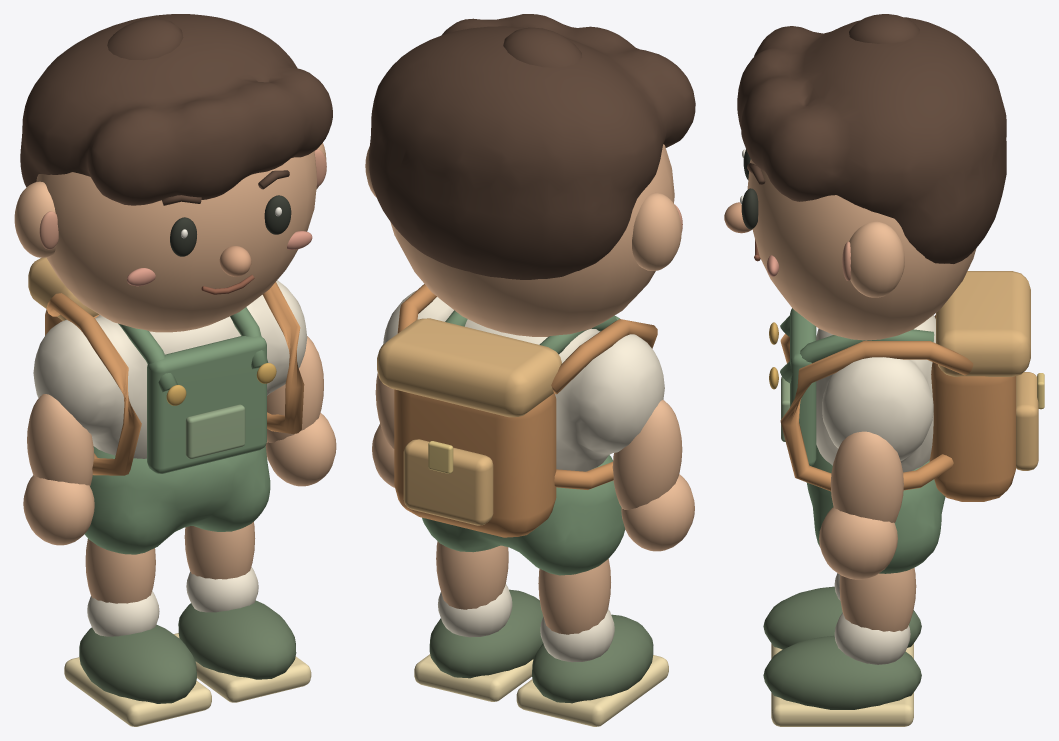
The model's file is child.glb.
3 views of the same model, side by side, from view 1: azimuth 30°, elevation 25°; view 2: azimuth 150°, elevation 25°; view 3: azimuth 270°, elevation 25° (orthographic). The views are drawn at different scales.
Parts seen in each view (by area): view 1: ChildLinkedHead_WI_#5D4638, ChildLinkedHead_WI_#E8B993, ChildBreathingBody_WI_#7B9775, ChildBreathingBody_WI_#E8B993, ChildExplorer_WI_#6C7D62, soft T shirt, ChildBreathingBody_WI_#CF9561, ChildExplorer_WI_#E8B993, ChildExplorer_WI_#F0DDAC, ChildExplorer_WI_#F4EAD5, overall front pocket, ChildLinkedHead_WI_#3B3E35 (+5 smaller); view 2: ChildLinkedHead_WI_#5D4638, ChildBreathingBody_WI_#E0B77E, ChildBreathingBody_WI_#CF9561, ChildLinkedHead_WI_#E8B993, soft T shirt, ChildExplorer_WI_#6C7D62, ChildBreathingBody_WI_#E8B993, ChildBreathingBody_WI_#7B9775, ChildExplorer_WI_#E8B993, ChildExplorer_WI_#F0DDAC, ChildExplorer_WI_#F4EAD5, backpack buckle; view 3: ChildLinkedHead_WI_#5D4638, ChildLinkedHead_WI_#E8B993, ChildBreathingBody_WI_#CF9561, ChildExplorer_WI_#6C7D62, ChildBreathingBody_WI_#E0B77E, soft T shirt, ChildBreathingBody_WI_#E8B993, ChildBreathingBody_WI_#7B9775, ChildExplorer_WI_#E8B993, ChildExplorer_WI_#F0DDAC, ChildExplorer_WI_#F4EAD5, ChildLinkedHead_WI_#3B3E35 (+1 smaller).
Part boxes in pixels (<box>): ChildLinkedHead_WI_#5D4638: <box>20,14,332,205</box>; ChildLinkedHead_WI_#E8B993: <box>14,143,326,332</box>; ChildBreathingBody_WI_#7B9775: <box>84,307,270,554</box>; ChildBreathingBody_WI_#E8B993: <box>23,336,336,545</box>; ChildExplorer_WI_#6C7D62: <box>79,600,296,703</box>; soft T shirt: <box>33,280,307,458</box>; ChildBreathingBody_WI_#CF9561: <box>45,282,304,475</box>; ChildExplorer_WI_#E8B993: <box>85,522,255,603</box>; ChildExplorer_WI_#F0DDAC: <box>64,633,311,726</box>; ChildExplorer_WI_#F4EAD5: <box>87,567,258,636</box>; overall front pocket: <box>185,404,245,458</box>; ChildLinkedHead_WI_#3B3E35: <box>170,195,291,256</box>; ChildLinkedHead_WI_#5D4638: <box>369,14,695,279</box>; ChildBreathingBody_WI_#E0B77E: <box>377,318,561,525</box>; ChildBreathingBody_WI_#CF9561: <box>394,284,657,537</box>; ChildLinkedHead_WI_#E8B993: <box>365,144,681,336</box>; soft T shirt: <box>383,290,664,471</box>; ChildExplorer_WI_#6C7D62: <box>429,589,653,703</box>; ChildBreathingBody_WI_#E8B993: <box>372,373,694,551</box>; ChildBreathingBody_WI_#7B9775: <box>422,310,625,575</box>; ChildExplorer_WI_#E8B993: <box>436,541,610,634</box>; ChildExplorer_WI_#F0DDAC: <box>414,654,668,726</box>; ChildExplorer_WI_#F4EAD5: <box>438,584,614,662</box>; backpack buckle: <box>428,441,453,473</box>; ChildLinkedHead_WI_#5D4638: <box>737,14,1006,263</box>; ChildLinkedHead_WI_#E8B993: <box>747,159,976,340</box>; ChildBreathingBody_WI_#CF9561: <box>780,315,1015,501</box>; ChildExplorer_WI_#6C7D62: <box>763,586,921,709</box>; ChildBreathingBody_WI_#E0B77E: <box>936,271,1038,470</box>; soft T shirt: <box>816,315,935,472</box>; ChildBreathingBody_WI_#E8B993: <box>819,431,903,579</box>; ChildBreathingBody_WI_#7B9775: <box>780,308,945,573</box>; ChildExplorer_WI_#E8B993: <box>839,567,916,631</box>; ChildExplorer_WI_#F0DDAC: <box>771,643,913,726</box>; ChildExplorer_WI_#F4EAD5: <box>834,573,910,664</box>; ChildLinkedHead_WI_#3B3E35: <box>741,149,758,229</box>.
Size of the model in its own units: 1 by 2.06 by 0.9104.
